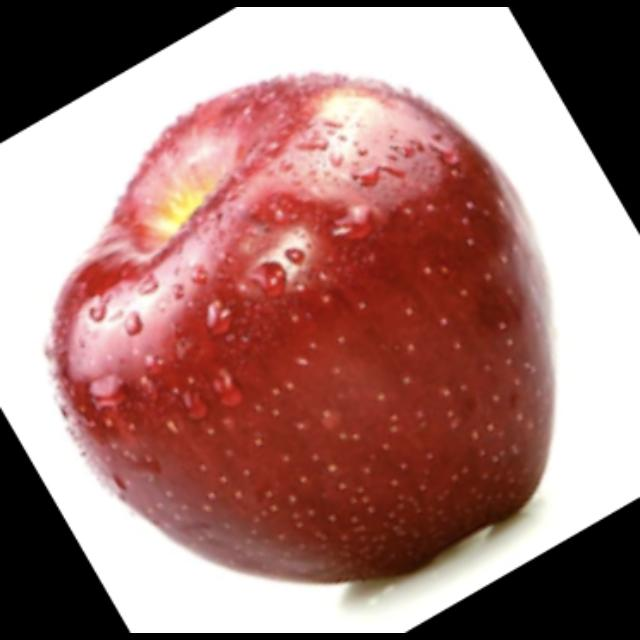Apel Segar: (46, 73, 557, 583)
